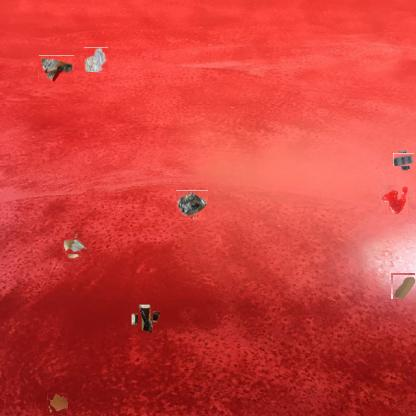dirty: (38, 55, 74, 84), (178, 189, 207, 219), (392, 274, 416, 300), (84, 47, 108, 72), (134, 306, 156, 330), (64, 236, 85, 257), (395, 151, 412, 168)
liquid: (379, 185, 408, 215), (47, 394, 68, 415)
